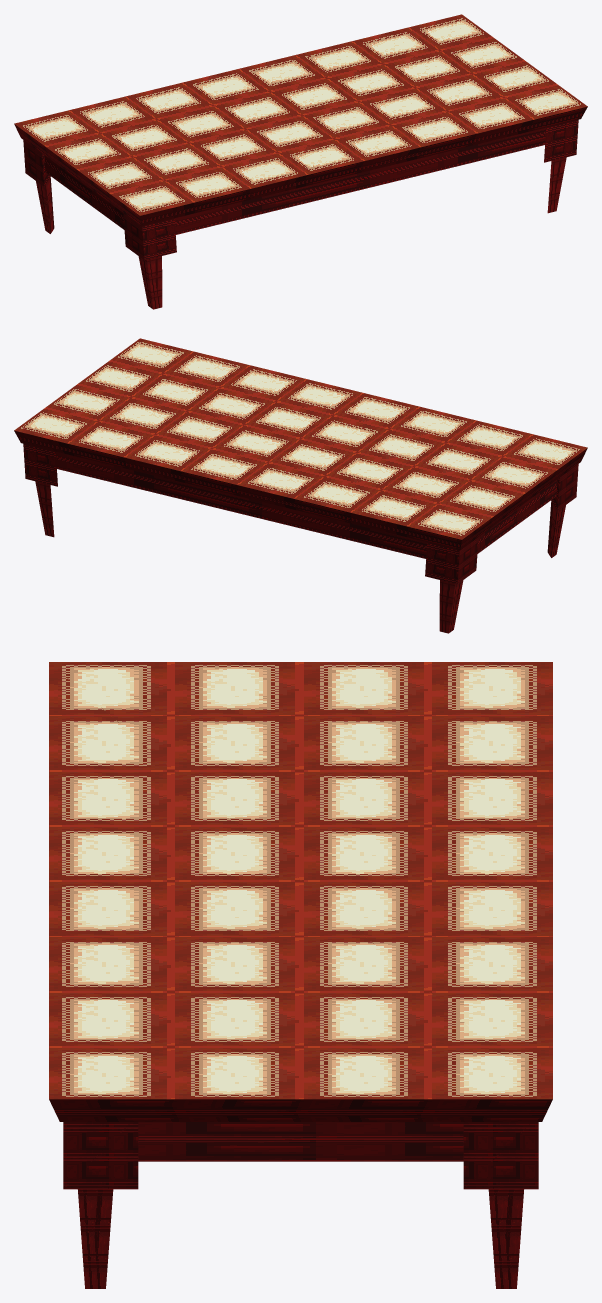
Rendered from 3046IMRL02_07.gltf.
The picture shows the model from 3 angles, top to bottom: view 1: azimuth 30°, elevation 25°; view 2: azimuth 150°, elevation 25°; view 3: azimuth 270°, elevation 25°; orthographic projection. The views are drawn at different scales.
Visible parts, largest first — view 1: 3046IMRL02_07; view 2: 3046IMRL02_07; view 3: 3046IMRL02_07.
Part boxes in pixels (x1,y1,x2,y2): 3046IMRL02_07: [14, 14, 587, 309]; 3046IMRL02_07: [14, 338, 587, 633]; 3046IMRL02_07: [49, 662, 552, 1288].
Bounding box in the file's own units: 1.95 × 0.4399 × 0.9502.
3 materials, 3 textured.
